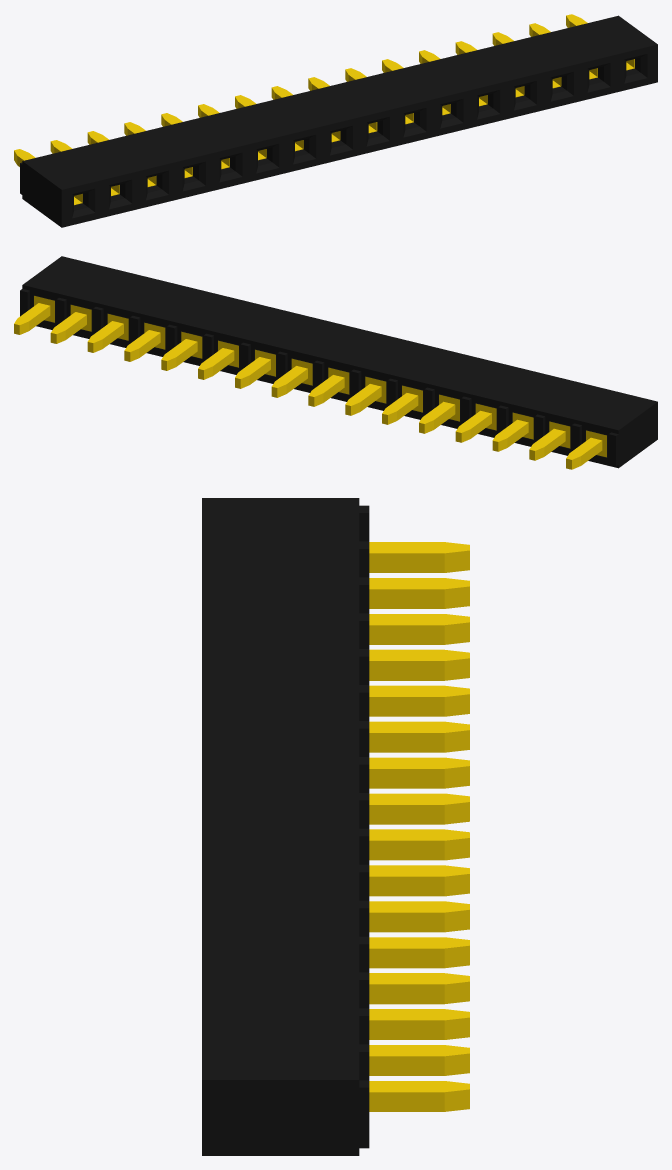
Rendered from 16-Pin Header - Female - 2.54mm v1.obj.
3 views of the same model, one above another, from view 1: azimuth 30°, elevation 25°; view 2: azimuth 150°, elevation 25°; view 3: azimuth 270°, elevation 25° (orthographic). The views are drawn at different scales.
Parts seen in each view (by area): view 1: Body1; view 2: Body1; view 3: Body1.
Part boxes in pixels (x1,y1,x2,y2): Body1: (14, 14, 657, 227); Body1: (14, 256, 657, 469); Body1: (202, 498, 469, 1155).
Size of the model in its own units: 41.14 by 2.5 by 8.
